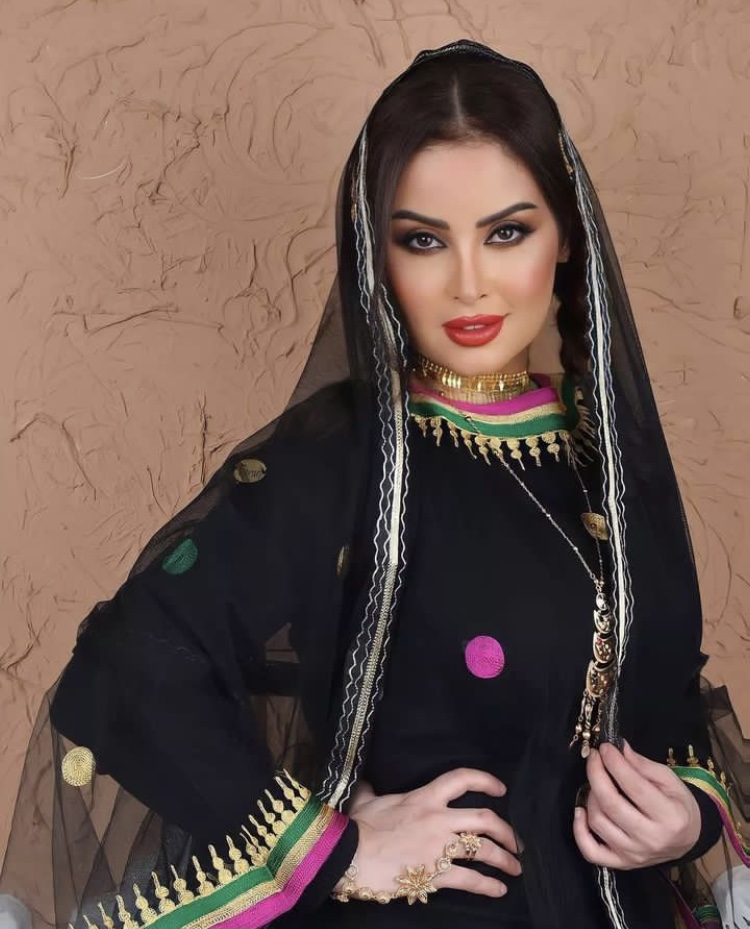Saudi_Founding_Day: (9, 36, 750, 929)
